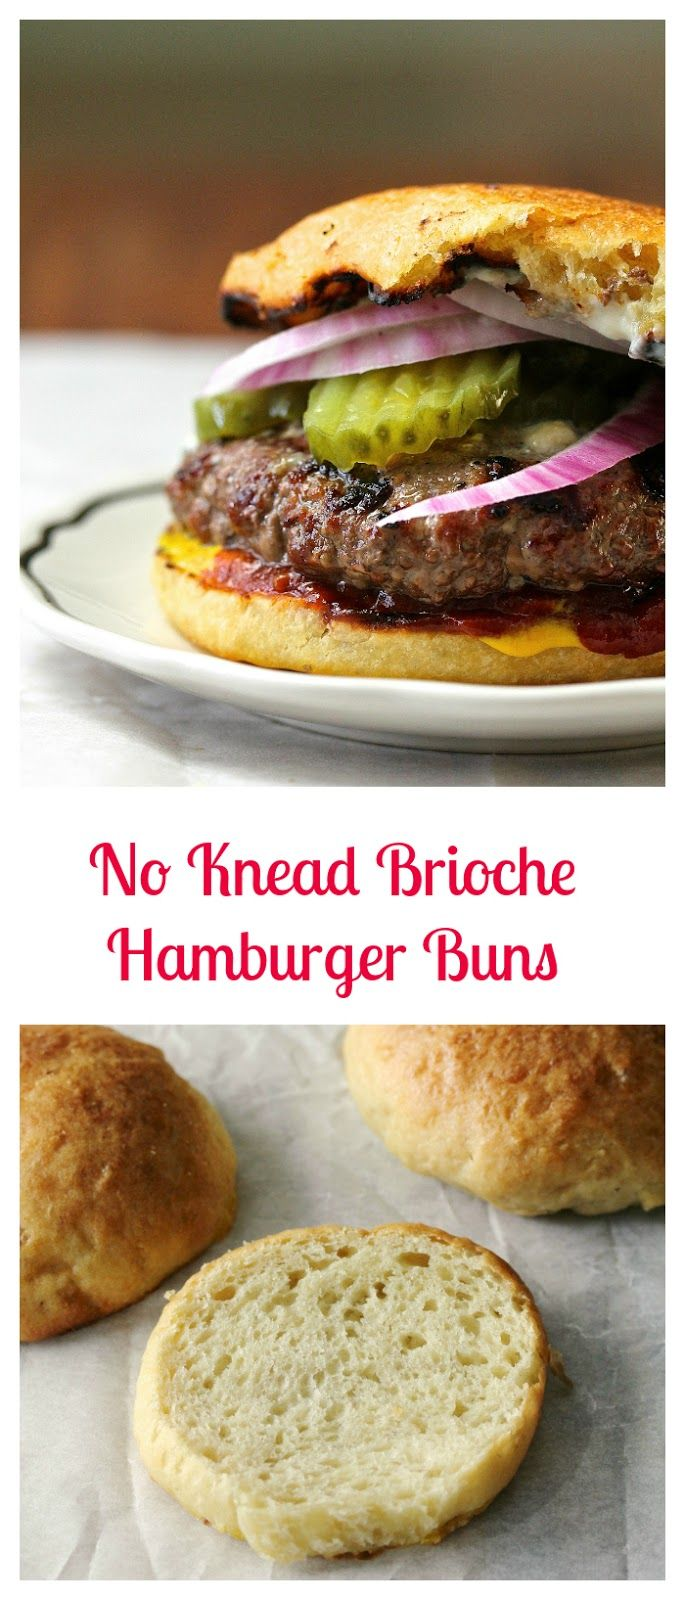hamburger_buns: (221, 156, 685, 365)
